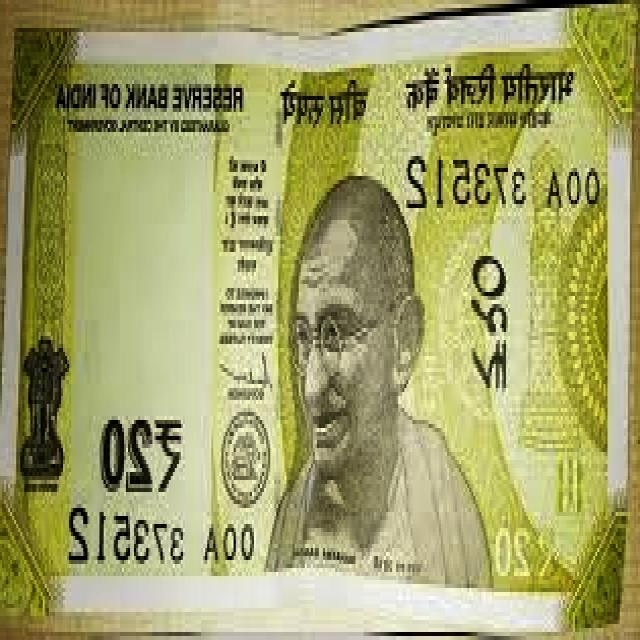20rs: (0, 4, 634, 616)
